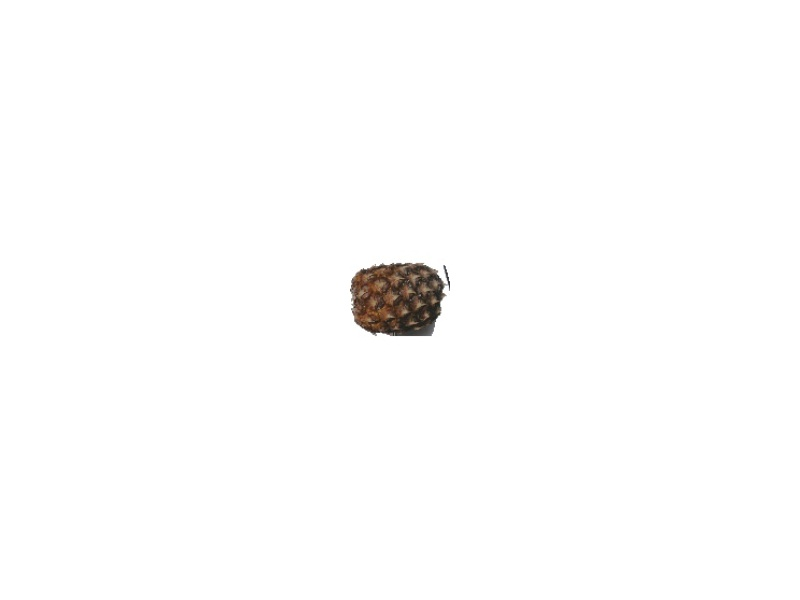abacaxi: (345, 256, 455, 340)
